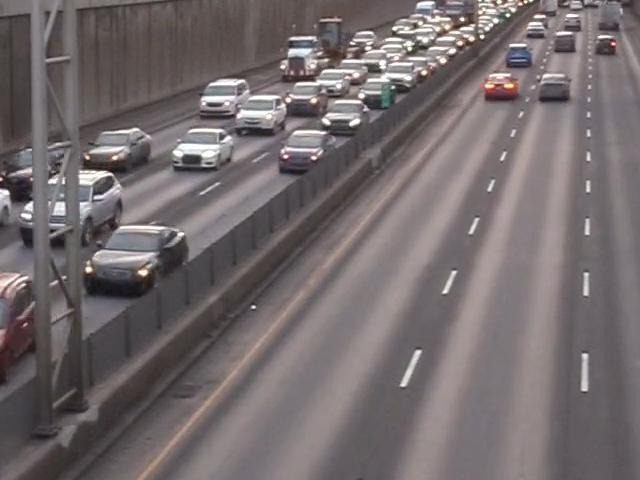car: (82, 220, 187, 295), (22, 168, 113, 252), (0, 276, 48, 381), (0, 150, 70, 188), (84, 127, 149, 167), (171, 128, 227, 174), (278, 131, 335, 174), (235, 94, 286, 137), (197, 76, 245, 118), (322, 97, 371, 138), (360, 81, 400, 111), (287, 85, 327, 115), (482, 71, 519, 103), (538, 70, 573, 103), (384, 59, 412, 93), (318, 69, 351, 95), (504, 42, 537, 67), (362, 47, 389, 71), (407, 55, 430, 83), (552, 30, 575, 55), (592, 33, 616, 55), (436, 38, 460, 59), (339, 61, 366, 79), (351, 29, 376, 48), (526, 21, 546, 38)
truck: (277, 29, 348, 74)
van: (594, 2, 619, 29)
